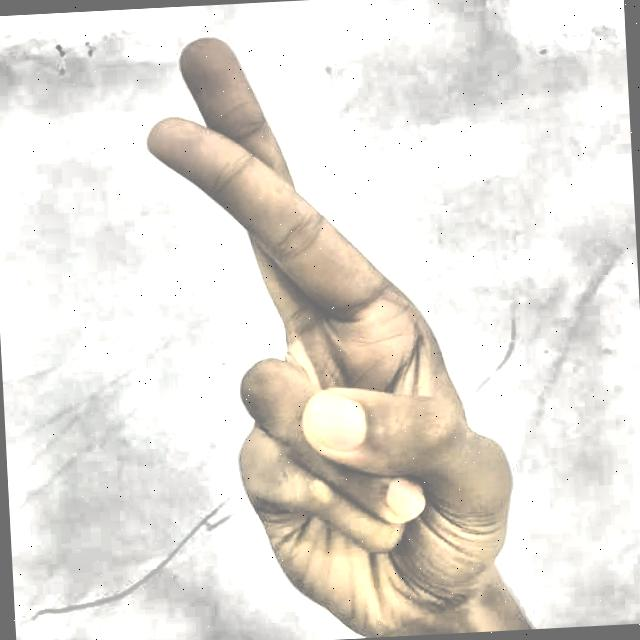Ra: (93, 4, 534, 640)
